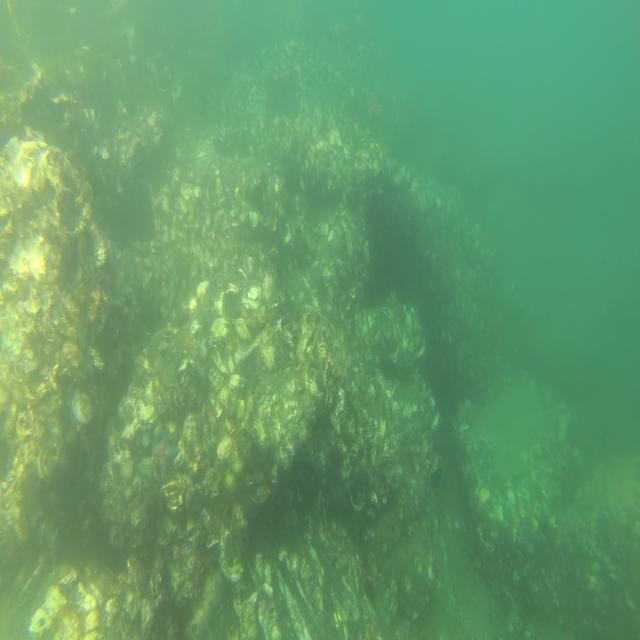echinus: (380, 354, 397, 385), (362, 578, 376, 604)
starfish: (148, 431, 179, 477), (327, 231, 342, 260)
